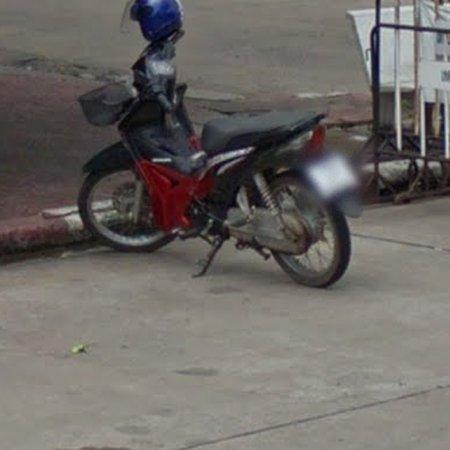motorcycles: (78, 0, 359, 288)
